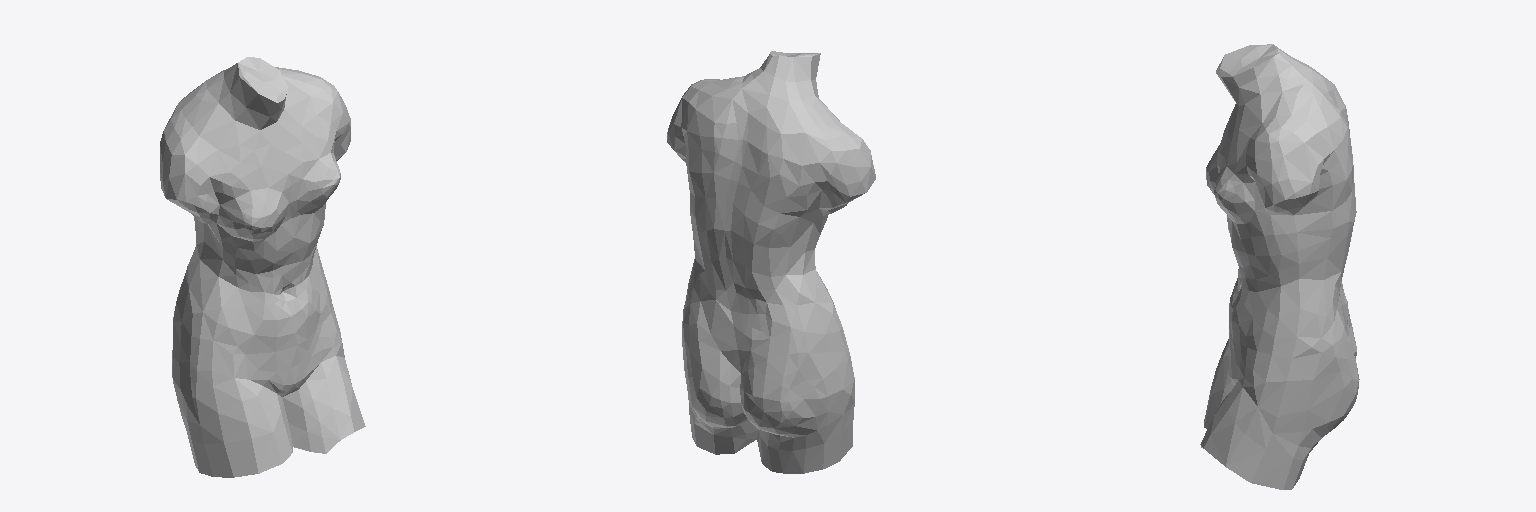
File: venus_normals_uv.obj
3 views of the same model, side by side, from view 1: azimuth 30°, elevation 25°; view 2: azimuth 150°, elevation 25°; view 3: azimuth 270°, elevation 25° (orthographic).
Visible parts, largest first — view 1: venussmall; view 2: venussmall; view 3: venussmall.
Part boxes in pixels (x1,y1,x2,y2): venussmall: (160, 57, 365, 477); venussmall: (667, 51, 875, 473); venussmall: (1200, 44, 1359, 489).
Size of the model in its own units: 1.31 by 2.67 by 0.95.